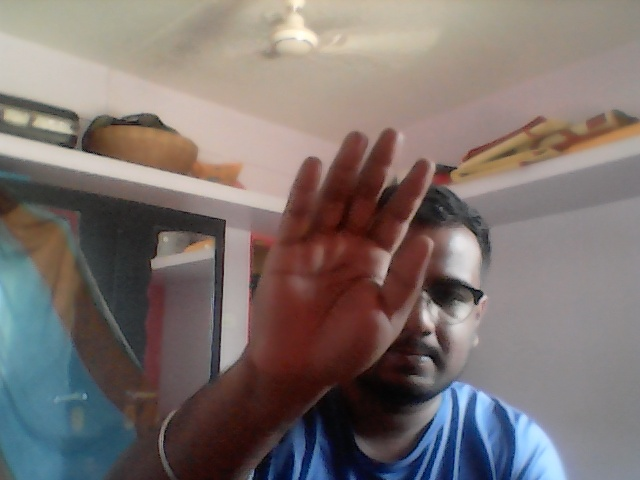Hello: (250, 126, 442, 396)
